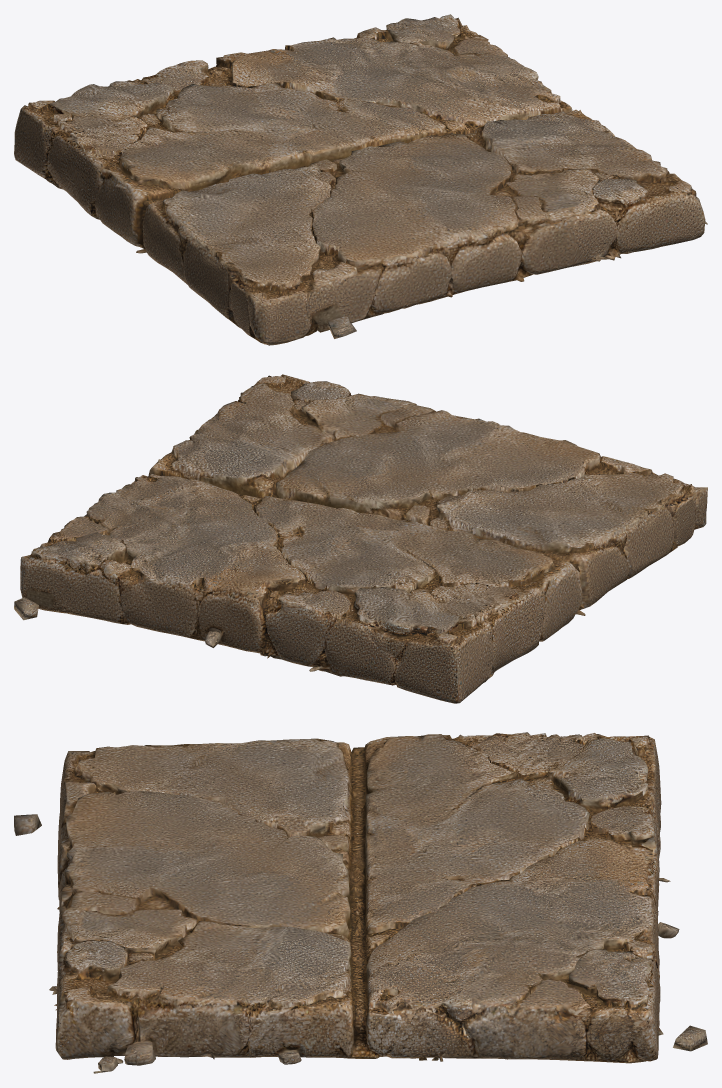
File: floor.glb
3 views of the same model, one above another, from view 1: azimuth 30°, elevation 25°; view 2: azimuth 150°, elevation 25°; view 3: azimuth 270°, elevation 25° (orthographic). The views are drawn at different scales.
Visible parts, largest first — view 1: tripo_node_7b41eb15-e4ce-4f27-8bf5-28915ac730f6; view 2: tripo_node_7b41eb15-e4ce-4f27-8bf5-28915ac730f6; view 3: tripo_node_7b41eb15-e4ce-4f27-8bf5-28915ac730f6.
Boxes of the visible parts, x1=… form: tripo_node_7b41eb15-e4ce-4f27-8bf5-28915ac730f6: x1=14, y1=14, x2=707, y2=345; tripo_node_7b41eb15-e4ce-4f27-8bf5-28915ac730f6: x1=14, y1=374, x2=707, y2=703; tripo_node_7b41eb15-e4ce-4f27-8bf5-28915ac730f6: x1=14, y1=732, x2=707, y2=1073.
Size of the model in its own units: 0.9266 by 0.1422 by 1.
Materials: 1 (1 with a texture image).
